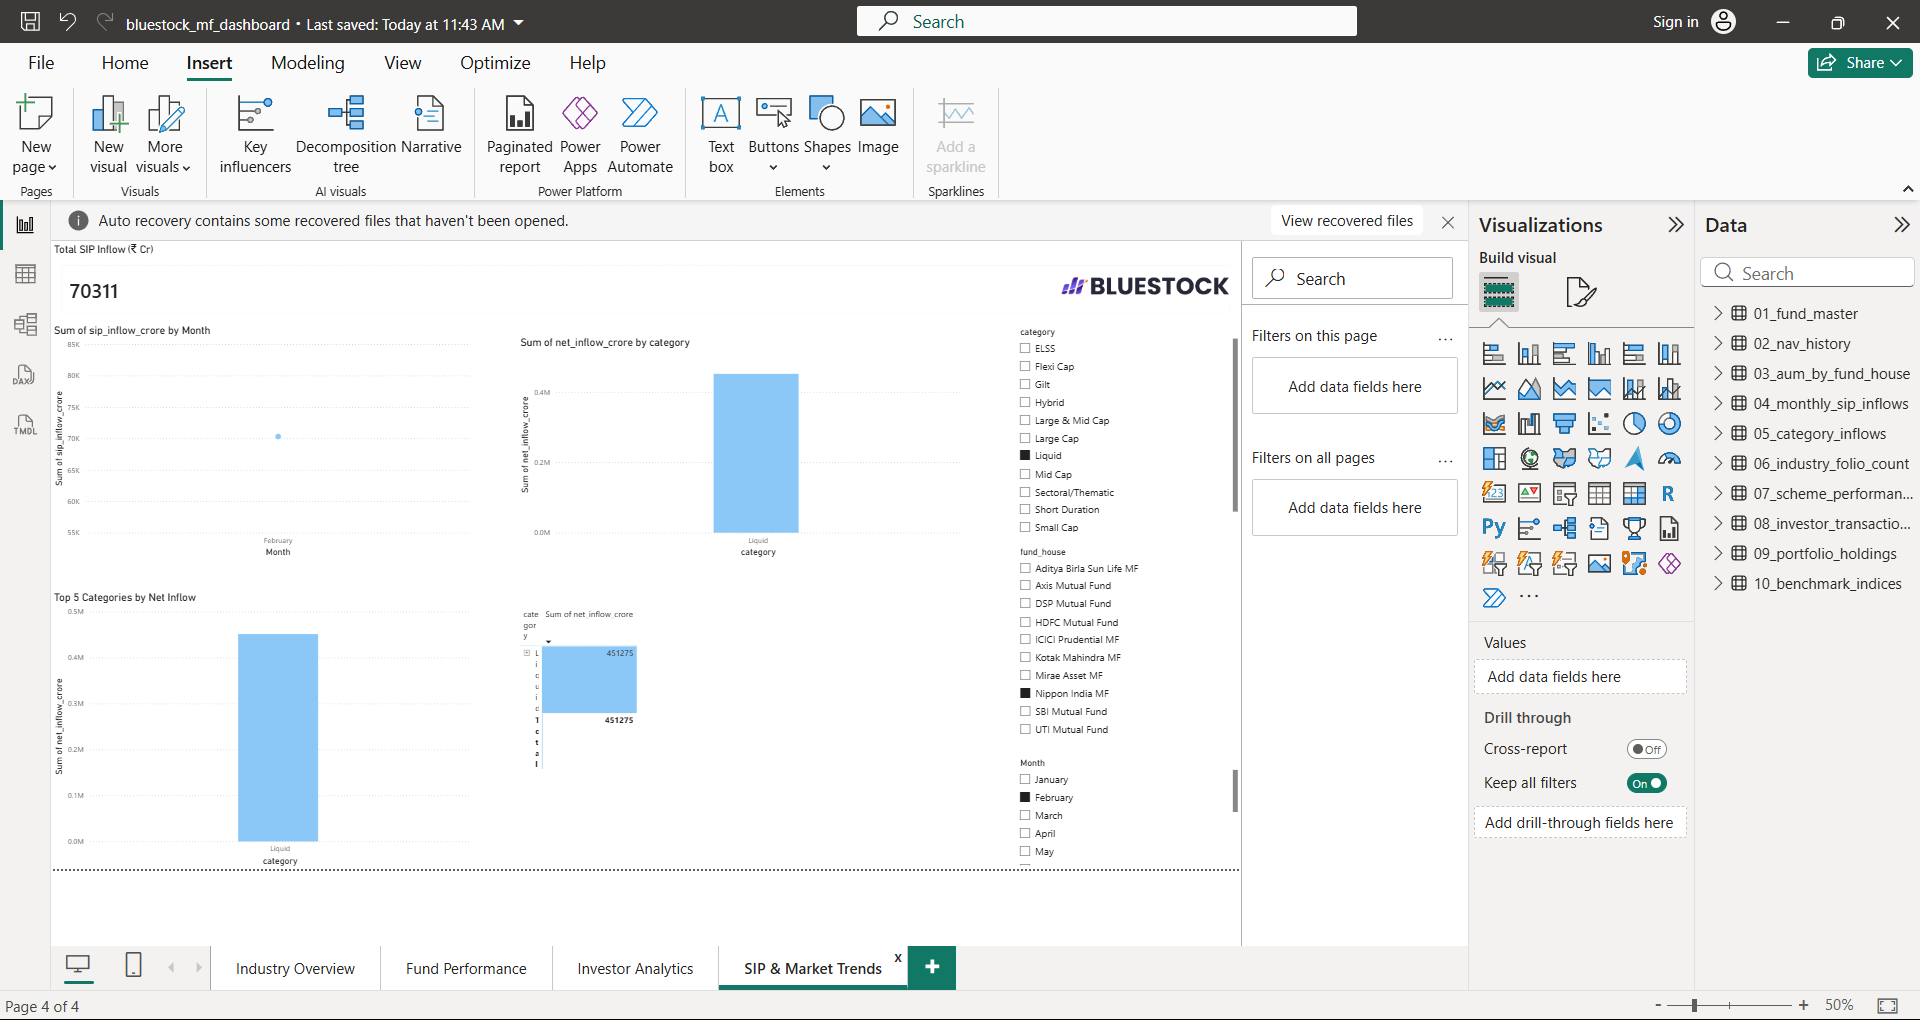

The dashboard page shown, as its layout file describes it:
{"tool":"powerbi","page":{"name":"SIP & Market Trends","canvas":[1920,1080],"ordinal":3},"visuals":[{"type":"cardVisual","title":"Total SIP Inflow (₹ Cr)","fields":{"Data":["Sum(04_monthly_sip_inflows.sip_inflow_crore)"]},"box":[0,68.6,1920.4,131.1],"z":0},{"type":"lineChart","fields":{"Category":["04_monthly_sip_inflows.month.Variation.Date Hierarchy.Month"],"Y":["Sum(04_monthly_sip_inflows.sip_inflow_crore)"]},"box":[0,199.7,681.8,381.3],"z":1000},{"type":"clusteredColumnChart","fields":{"Category":["05_category_inflows.category"],"Y":["Sum(05_category_inflows.net_inflow_crore)"]},"box":[752.4,219.9,720.2,361.1],"z":2000},{"type":"clusteredColumnChart","title":"Top 5 Categories by Net Inflow","fields":{"Category":["05_category_inflows.category"],"Y":["Sum(05_category_inflows.net_inflow_crore)"]},"box":[0,631.4,681.8,447.8],"z":3000},{"type":"pivotTable","fields":{"Rows":["05_category_inflows.category","05_category_inflows.month.Variation.Date Hierarchy.Month"],"Values":["Sum(05_category_inflows.net_inflow_crore)"]},"box":[752.4,651.6,720.2,427.7],"z":4000},{"type":"slicer","fields":{"Values":["04_monthly_sip_inflows.month.Variation.Date Hierarchy.Month"]},"box":[1551.3,895.7,369.2,183.6],"z":5000},{"type":"slicer","fields":{"Values":["05_category_inflows.category"]},"box":[1551.3,199.7,369.2,340.9],"z":6000},{"type":"slicer","fields":{"Values":["03_aum_by_fund_house.fund_house"]},"box":[1551.3,554.7,369.2,340.9],"z":7000},{"type":"image","box":[1621.9,56.5,298.6,163.4],"z":7001}]}

Visuals, with their boxes on the page's 1920x1080 design canvas (x1, y1, x2, y2). These are canvas units, not pixel positions in the 1920x1020 screenshot, which may show the page scaled, cropped or inside an application window:
"Total SIP Inflow (₹ Cr)" cardVisual: {"x1": 0, "y1": 69, "x2": 1920, "y2": 200}
lineChart - 04_monthly_sip_inflows.month.Variation.Date Hierarchy.Month x Sum(04_monthly_sip_inflows.sip_inflow_crore): {"x1": 0, "y1": 200, "x2": 682, "y2": 581}
clusteredColumnChart - 05_category_inflows.category x Sum(05_category_inflows.net_inflow_crore): {"x1": 752, "y1": 220, "x2": 1473, "y2": 581}
"Top 5 Categories by Net Inflow" clusteredColumnChart: {"x1": 0, "y1": 631, "x2": 682, "y2": 1079}
pivotTable - 05_category_inflows.category x 05_category_inflows.month.Variation.Date Hierarchy.Month: {"x1": 752, "y1": 652, "x2": 1473, "y2": 1079}
slicer - 04_monthly_sip_inflows.month.Variation.Date Hierarchy.Month: {"x1": 1551, "y1": 896, "x2": 1920, "y2": 1079}
slicer - 05_category_inflows.category: {"x1": 1551, "y1": 200, "x2": 1920, "y2": 541}
slicer - 03_aum_by_fund_house.fund_house: {"x1": 1551, "y1": 555, "x2": 1920, "y2": 896}
image: {"x1": 1622, "y1": 56, "x2": 1920, "y2": 220}
